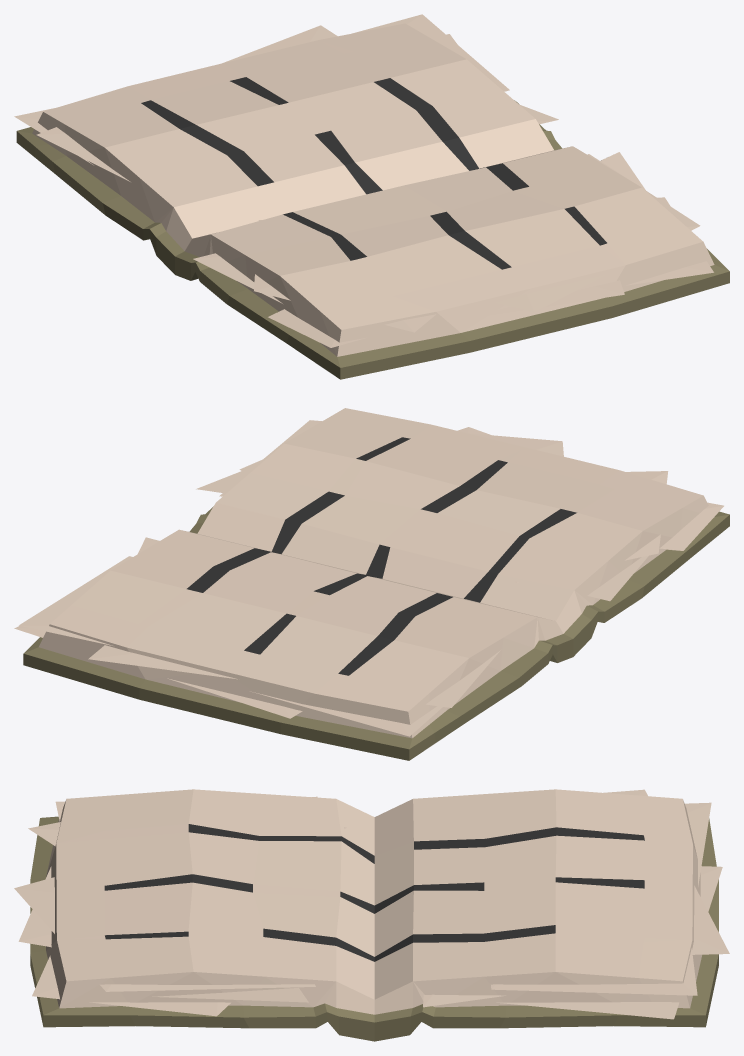
The model's file is Book04_Open.fbx.
3 renders of one model, top to bottom at view 1: azimuth 30°, elevation 25°; view 2: azimuth 150°, elevation 25°; view 3: azimuth 270°, elevation 25°, orthographic. The views are drawn at different scales.
Parts seen in each view (by area): view 1: Book04_Open; view 2: Book04_Open; view 3: Book04_Open.
Part boxes in pixels (left/top/right/bottom): Book04_Open: left=14, top=14, right=729, bottom=379; Book04_Open: left=14, top=408, right=729, bottom=760; Book04_Open: left=14, top=789, right=729, bottom=1041.
Bounding box in the file's own units: 1.03 × 0.142 × 1.44.
